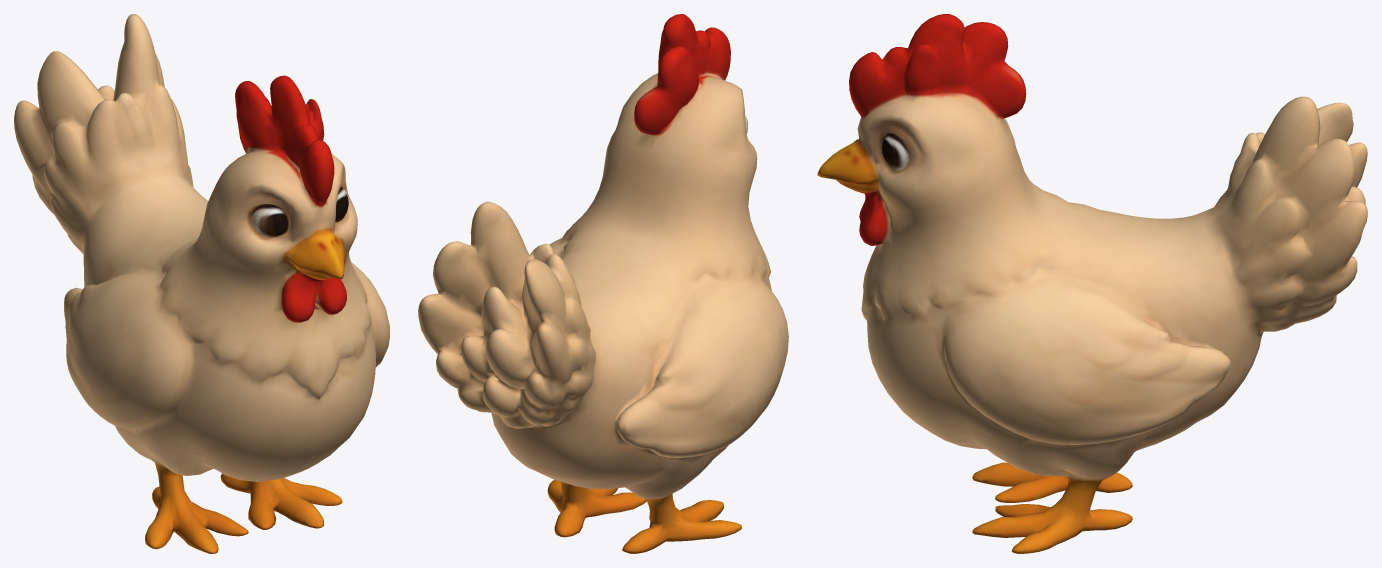
File: chicken.glb
3 renders of one model, left to right at view 1: azimuth 30°, elevation 25°; view 2: azimuth 150°, elevation 25°; view 3: azimuth 270°, elevation 25°, orthographic. The views are drawn at different scales.
Visible parts, largest first — view 1: chicken; view 2: chicken; view 3: chicken.
Boxes of the visible parts, x1,y1,x2,y2 form: chicken: (14,14,389,553); chicken: (418,14,788,553); chicken: (817,14,1367,553).
Size of the model in its own units: 0.5874 by 0.9937 by 0.9995.
1 material, 1 textured.
